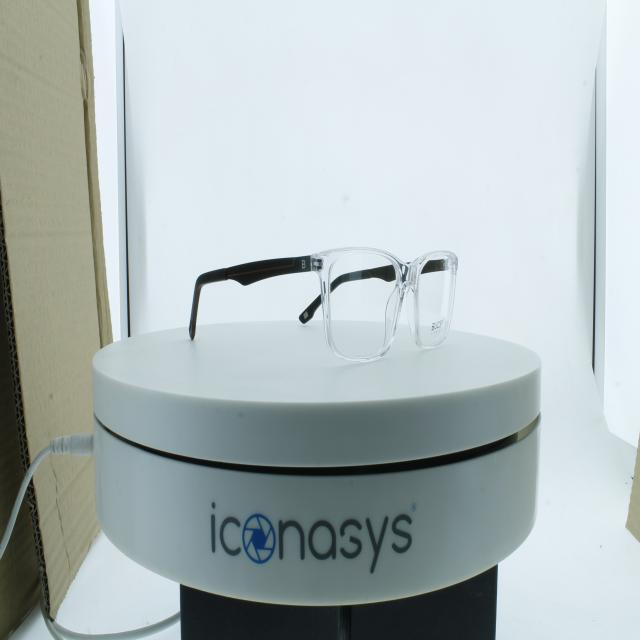Specs: (174, 207, 481, 380)
